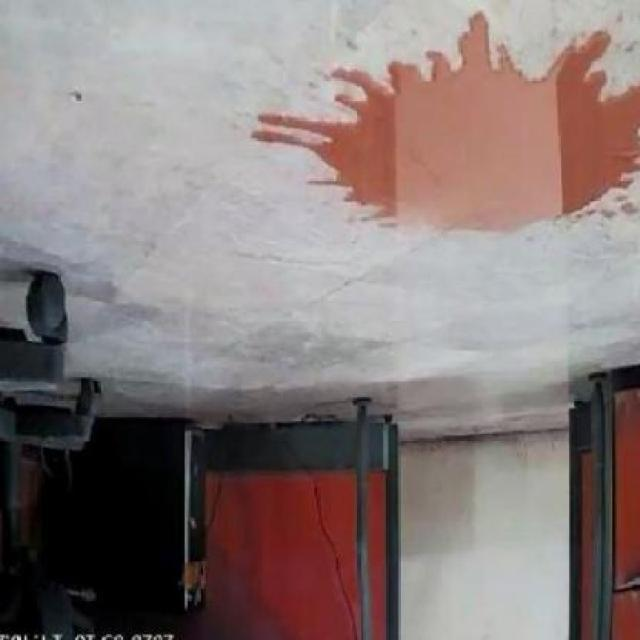spillage: (253, 12, 640, 236)
